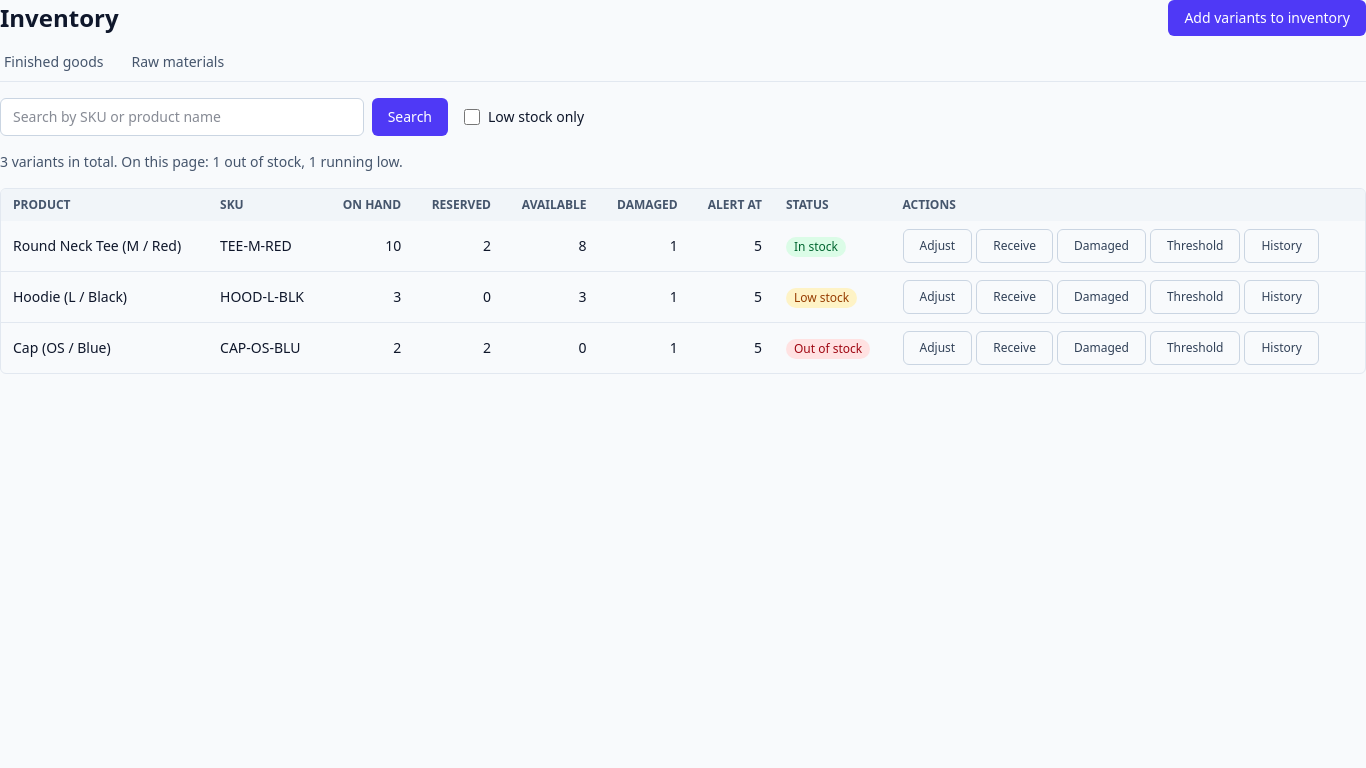
Scenario: StockDashboardPage › shows the server message when an adjustment is refused
Click the button "Adjust" in the row of "Round Neck Tee (M / Red)" at x=937, y=246, box [903,229,972,263]
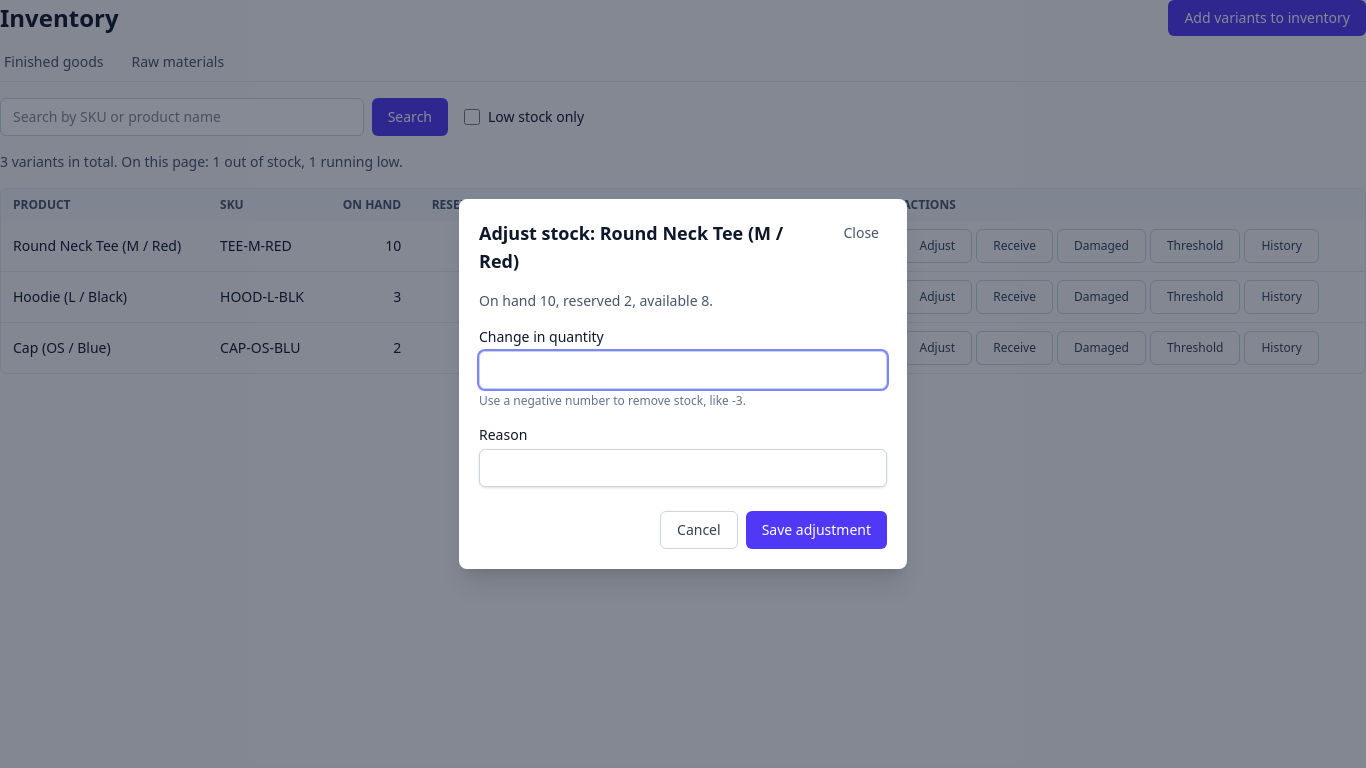
Type "-9" into the field labelled "Change in quantity" at x=683, y=370, box [479,351,887,389]
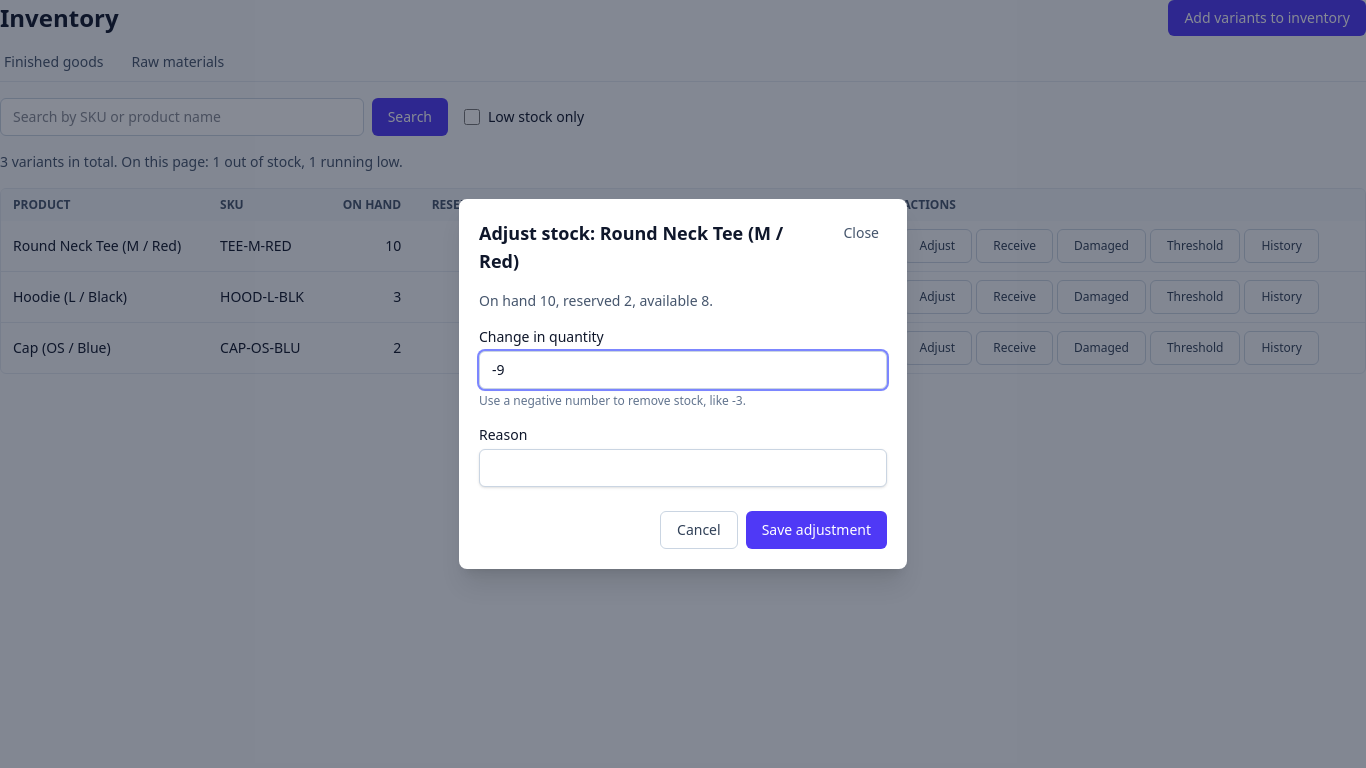
Type "recount" into the field labelled "Reason" at x=683, y=468, box [479,449,887,487]
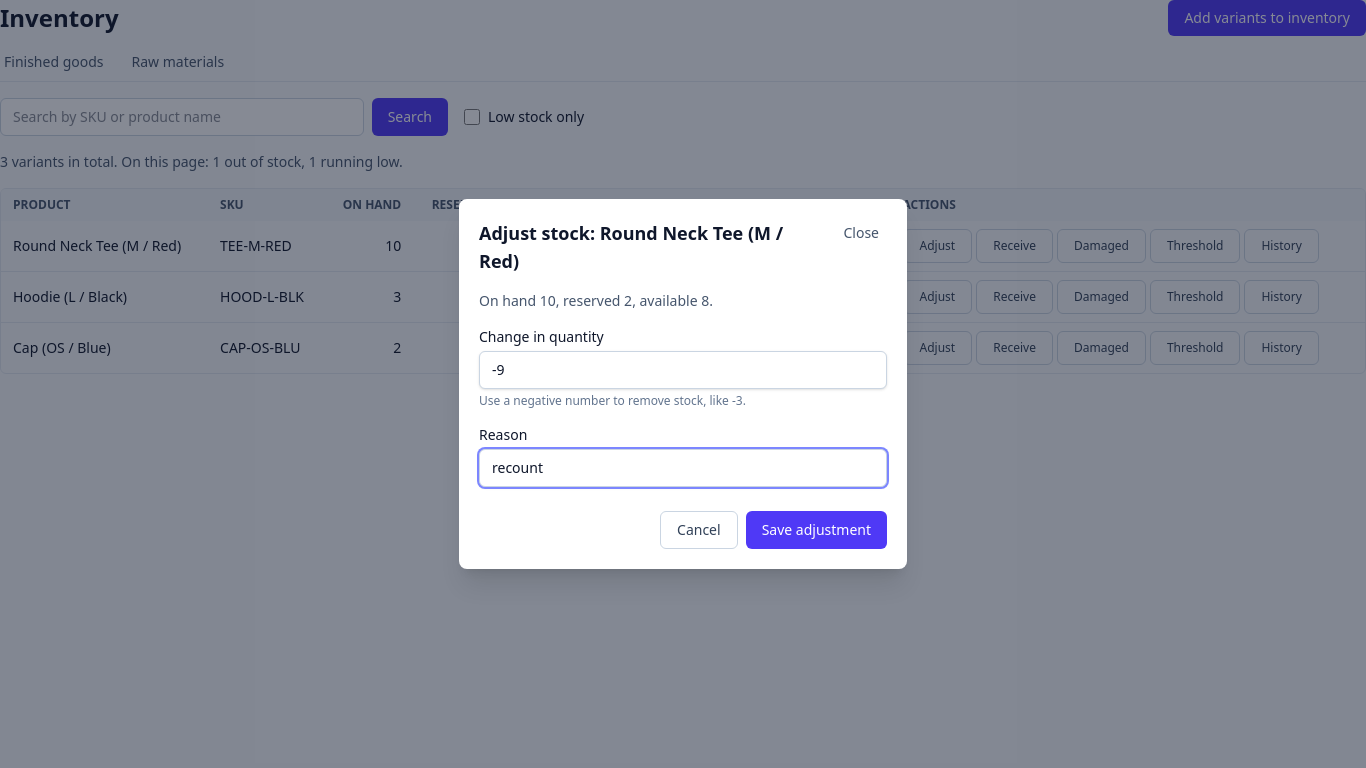
Click the button "Save adjustment" at x=816, y=530, box [746,511,887,549]
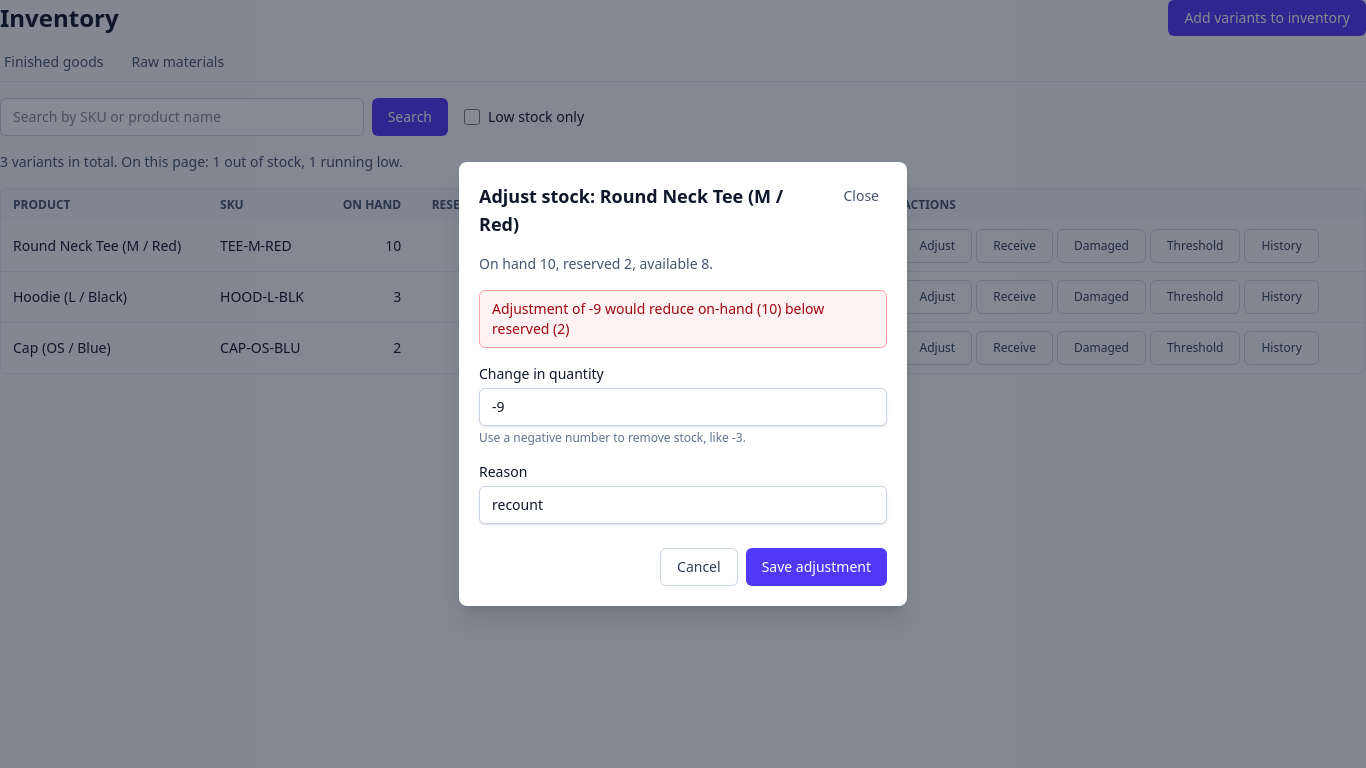
Now the dialog is shown, box [459,162,907,606]
Now the message shows "below reserved (2)", box [492,299,824,338]
